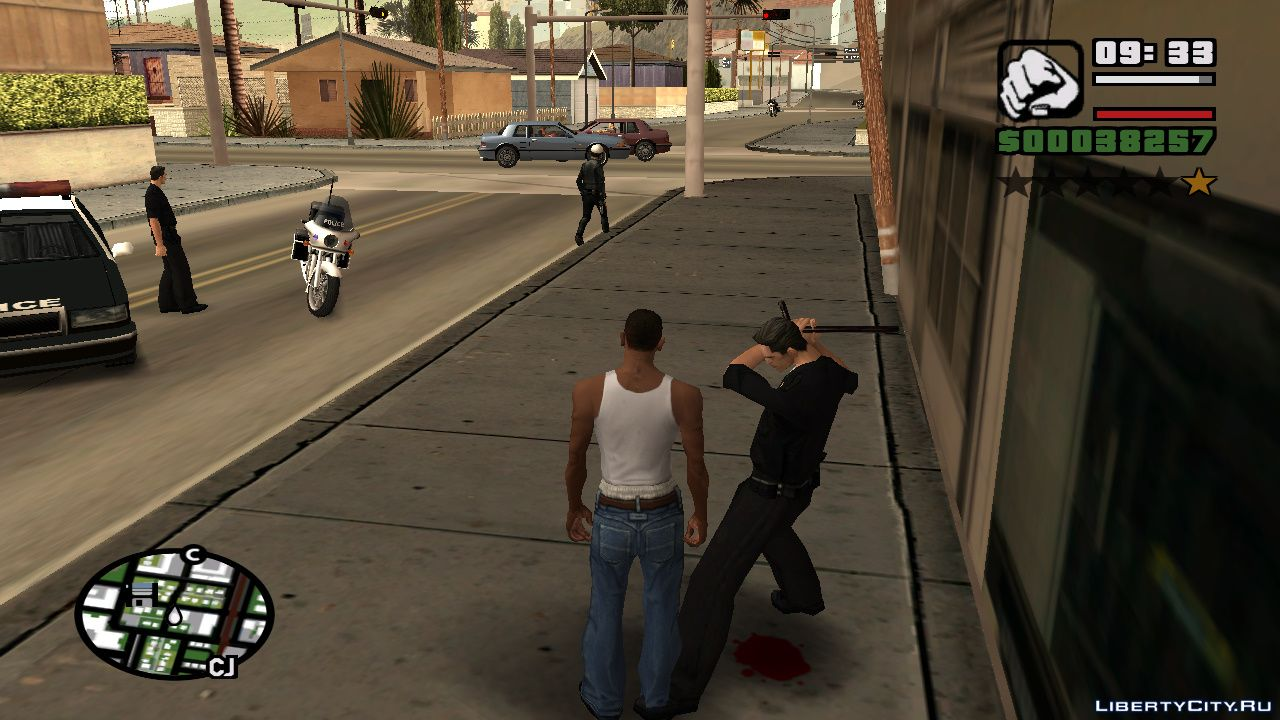bike: (303, 198, 361, 319)
car: (1, 172, 130, 377), (483, 116, 629, 168), (578, 115, 671, 168)
person: (707, 320, 841, 687), (573, 328, 692, 720), (140, 158, 215, 319), (577, 142, 619, 241)
